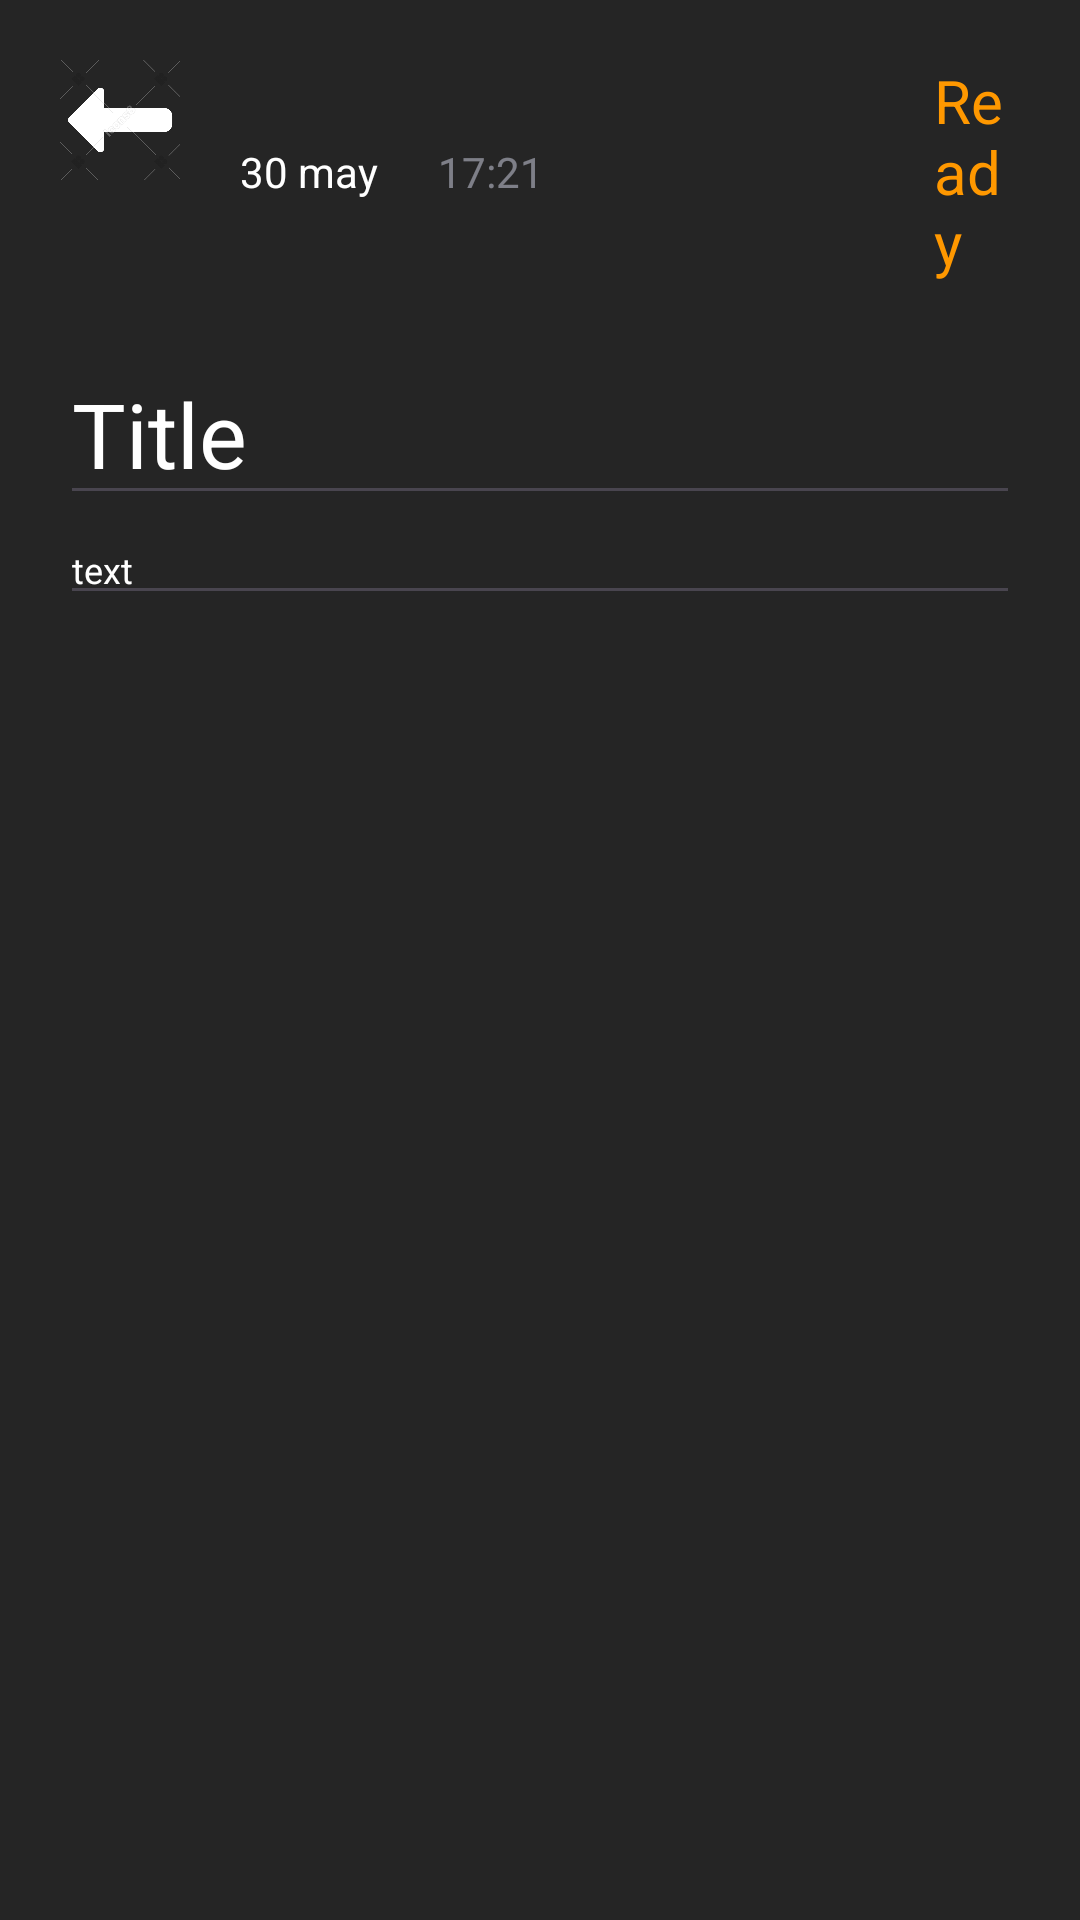

Point at icon controls on the screen. Image size 1080px x 1920px, points as [x,y].
left: [120,120]
